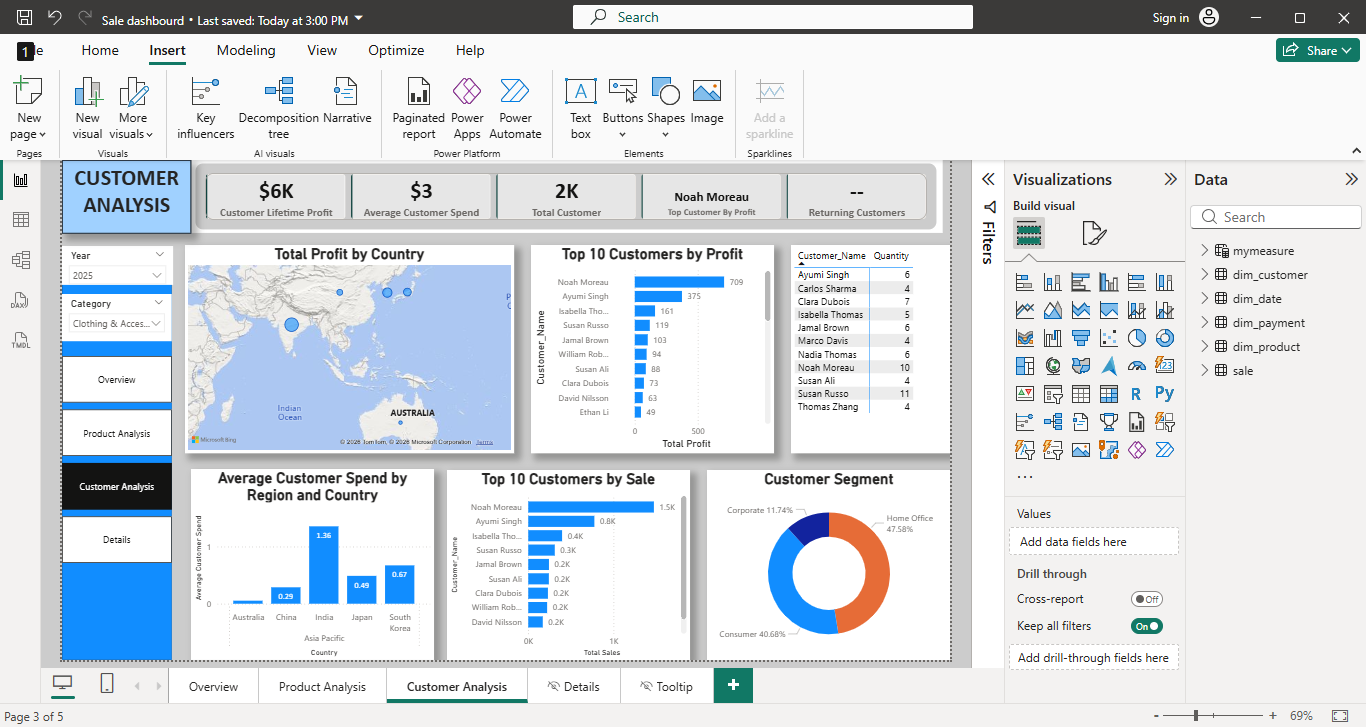

The page's visual inventory and layout, read from the dashboard file:
{"tool":"powerbi","page":{"name":"Customer Analysis","canvas":[1280,720],"ordinal":2},"visuals":[{"type":"shape","box":[0,136.8,158.4,583.2],"z":0},{"type":"map","fields":{"Category":["dim_customer.Country"],"Size":["mymeasure.Total Profit"]},"box":[177.1,122.4,473.8,299.5],"z":1000},{"type":"cardVisual","fields":{"Data":["mymeasure.Customer Lifetime Profit","mymeasure.Average Customer Spend","mymeasure.Total Customer","mymeasure.Top Customer By Profit","mymeasure.Returning Customers"]},"box":[187.2,0,1081.4,105.1],"z":2000},{"type":"clusteredColumnChart","fields":{"Y":["mymeasure.Average Customer Spend"],"Category":["sale.Region Hierarchy.Region","sale.Region Hierarchy.Country"]},"box":[185.8,445.5,350,275],"z":3000},{"type":"clusteredBarChart","title":"Top 10 Customers by Profit","fields":{"Y":["mymeasure.Total Profit"],"Category":["dim_customer.Customer_Name"]},"box":[675.4,122.4,349.9,299.5],"z":4000},{"type":"pivotTable","title":"Top 10 Customer By Quantity","fields":{"Rows":["dim_customer.Customer_Name"],"Values":["mymeasure.Total Quantity Sold"]},"box":[1049.8,122.4,230.4,299.5],"z":5000},{"type":"clusteredBarChart","title":"Top 10 Customers by Sale","fields":{"Y":["mymeasure.Total Sales"],"Category":["dim_customer.Customer_Name"]},"box":[554.4,446.4,349.9,273.6],"z":6000},{"type":"slicer","fields":{"Values":["dim_date.year"]},"box":[0,123.8,159.8,56.2],"z":7000},{"type":"textbox","box":[0,0,186.5,105.8],"z":8000},{"type":"donutChart","title":"Customer Segment","fields":{"Category":["dim_customer.Customer_Segment"],"Y":["mymeasure.Total Profit"]},"box":[928.8,446.4,351.4,273.6],"z":9000},{"type":"slicer","fields":{"Values":["dim_product.Product_Category"]},"box":[0,193,158.4,67.7],"z":10000},{"type":"pageNavigator","box":[0,282.2,158.4,301],"z":11000}]}

Visuals, with their boxes on the page's 1280x720 design canvas (x1, y1, x2, y2). These are canvas units, not pixel positions in the 1366x727 screenshot, which may show the page scaled, cropped or inside an application window:
shape: bbox=[0, 137, 158, 720]
map - dim_customer.Country x mymeasure.Total Profit: bbox=[177, 122, 651, 422]
cardVisual - mymeasure.Customer Lifetime Profit x mymeasure.Average Customer Spend: bbox=[187, 0, 1269, 105]
clusteredColumnChart - mymeasure.Average Customer Spend x sale.Region Hierarchy.Region: bbox=[186, 446, 536, 720]
"Top 10 Customers by Profit" clusteredBarChart: bbox=[675, 122, 1025, 422]
"Top 10 Customer By Quantity" pivotTable: bbox=[1050, 122, 1280, 422]
"Top 10 Customers by Sale" clusteredBarChart: bbox=[554, 446, 904, 720]
slicer - dim_date.year: bbox=[0, 124, 160, 180]
textbox: bbox=[0, 0, 186, 106]
"Customer Segment" donutChart: bbox=[929, 446, 1280, 720]
slicer - dim_product.Product_Category: bbox=[0, 193, 158, 261]
pageNavigator: bbox=[0, 282, 158, 583]
